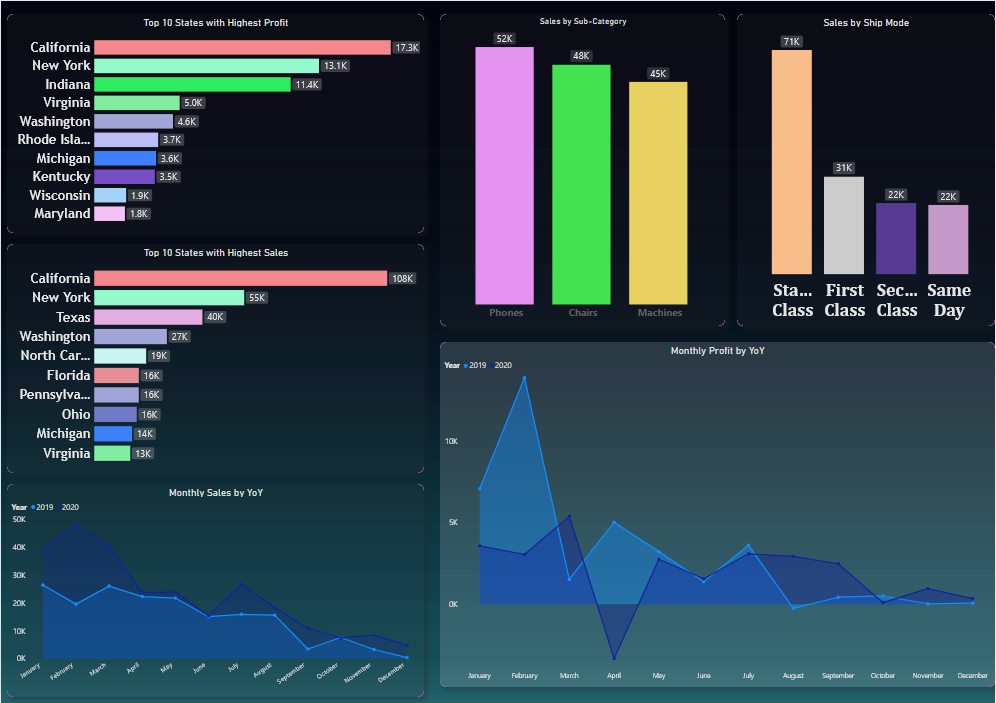

This screenshot's page, from the dashboard's own definition file:
{"tool":"powerbi","page":{"name":"Dashboard Page 2","canvas":[2400,1700],"ordinal":1},"visuals":[{"type":"clusteredColumnChart","title":"Sales by Sub-Category","fields":{"Category":["SuperStore_Sales_Dataset.Sub-Category"],"Y":["Sum(SuperStore_Sales_Dataset.Sales)"]},"box":[1060,30,690,755],"z":1000},{"type":"clusteredColumnChart","title":"Sales by Ship Mode","fields":{"Category":["SuperStore_Sales_Dataset.Ship Mode"],"Y":["Sum(SuperStore_Sales_Dataset.Sales)"]},"box":[1777.5,30,622.5,755],"z":2000},{"type":"areaChart","title":"Monthly Sales by YoY ","fields":{"Y":["Sum(SuperStore_Sales_Dataset.Sales)"],"Category":["SuperStore_Sales_Dataset.Order Date.Variation.Date Hierarchy.Month","SuperStore_Sales_Dataset.Order Date.Variation.Date Hierarchy.Day"],"Series":["SuperStore_Sales_Dataset.Order Date.Variation.Date Hierarchy.Year"]},"box":[15,1165,1007.5,515],"z":3000},{"type":"areaChart","title":"Monthly Profit by YoY ","fields":{"Category":["SuperStore_Sales_Dataset.Order Date.Variation.Date Hierarchy.Month","SuperStore_Sales_Dataset.Order Date.Variation.Date Hierarchy.Day"],"Series":["SuperStore_Sales_Dataset.Order Date.Variation.Date Hierarchy.Year"],"Y":["Sum(SuperStore_Sales_Dataset.Profit)"]},"box":[1060,825,1340,832.5],"z":4000},{"type":"clusteredBarChart","title":"Top 10 States with Highest Sales","fields":{"Category":["SuperStore_Sales_Dataset.State"],"Y":["Sum(SuperStore_Sales_Dataset.Sales)"]},"box":[15,585,1007.5,555],"z":16000},{"type":"clusteredBarChart","title":"Top 10 States with Highest Profit ","fields":{"Category":["SuperStore_Sales_Dataset.State"],"Y":["Sum(SuperStore_Sales_Dataset.Profit)"]},"box":[15,30,1007.5,530],"z":17000}]}

Visuals, with their boxes in screenshot pixels (x1, y1, x2, y2), scaled from the page's 2400x1700 canvas onto the 996x703 screenshot:
"Sales by Sub-Category" clusteredColumnChart: {"x1": 440, "y1": 12, "x2": 726, "y2": 325}
"Sales by Ship Mode" clusteredColumnChart: {"x1": 738, "y1": 12, "x2": 995, "y2": 325}
"Monthly Sales by YoY " areaChart: {"x1": 6, "y1": 482, "x2": 424, "y2": 695}
"Monthly Profit by YoY " areaChart: {"x1": 440, "y1": 341, "x2": 995, "y2": 685}
"Top 10 States with Highest Sales" clusteredBarChart: {"x1": 6, "y1": 242, "x2": 424, "y2": 471}
"Top 10 States with Highest Profit " clusteredBarChart: {"x1": 6, "y1": 12, "x2": 424, "y2": 232}
